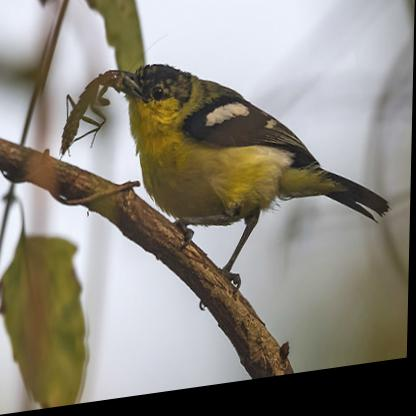Burung: (107, 40, 394, 327)
